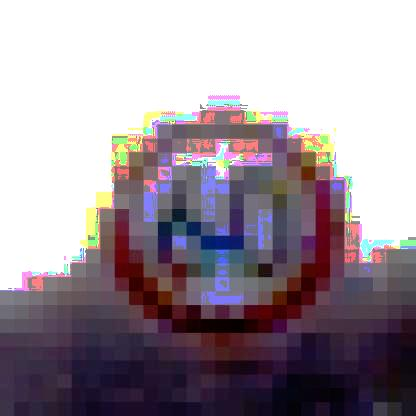Speed Limit -60-: (99, 122, 346, 340)
